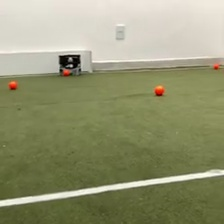ball: (154, 83, 165, 96), (8, 79, 17, 89), (212, 61, 219, 69), (63, 68, 70, 76)
goal: (1, 47, 93, 78)
robot: (57, 53, 83, 75)
